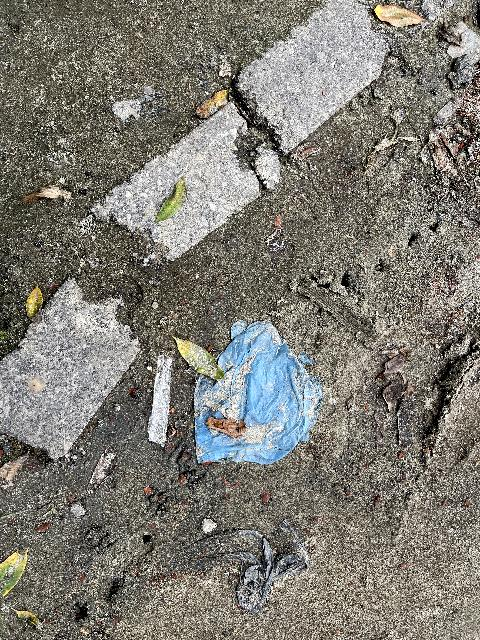polythene: (194, 322, 333, 487)
